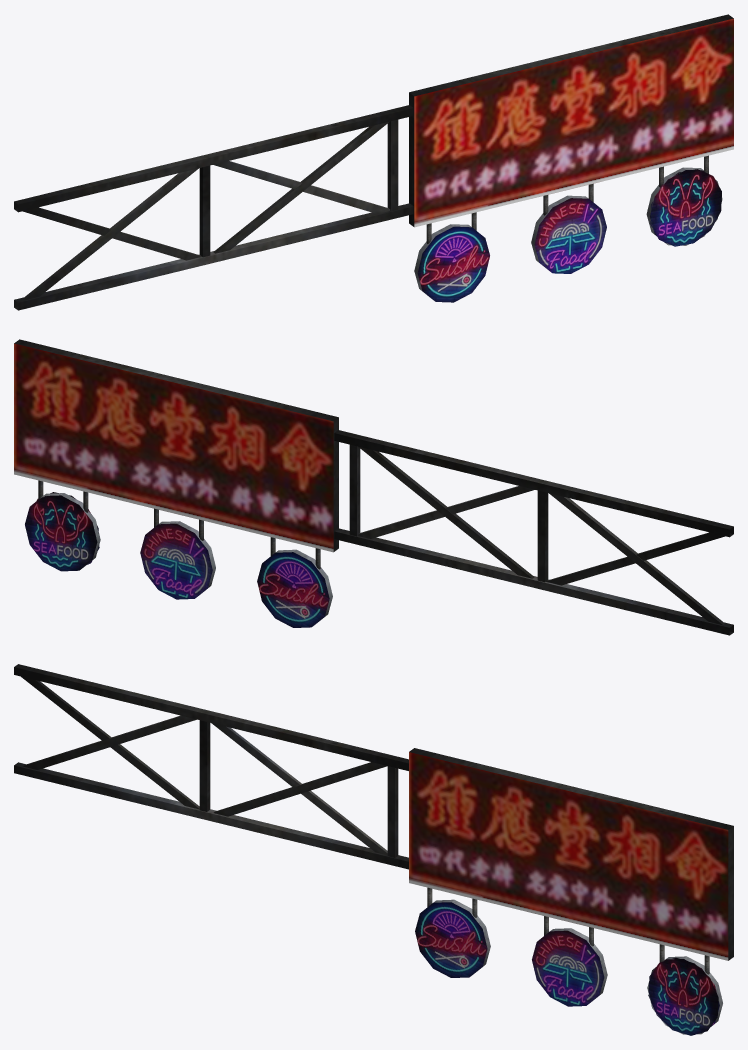
File: SIN0210002.fbx
3 views of the same model, one above another, from view 1: azimuth 30°, elevation 25°; view 2: azimuth 150°, elevation 25°; view 3: azimuth 330°, elevation 25° (orthographic).
Visible parts, largest first — view 1: smSIN0210002; view 2: smSIN0210002; view 3: smSIN0210002.
Part boxes in pixels (<box>): smSIN0210002: <box>14,14,733,310</box>; smSIN0210002: <box>14,339,733,635</box>; smSIN0210002: <box>14,664,733,1035</box>.
Size of the model in its own units: 465 by 135 by 6.29.
1 material, 1 textured.
